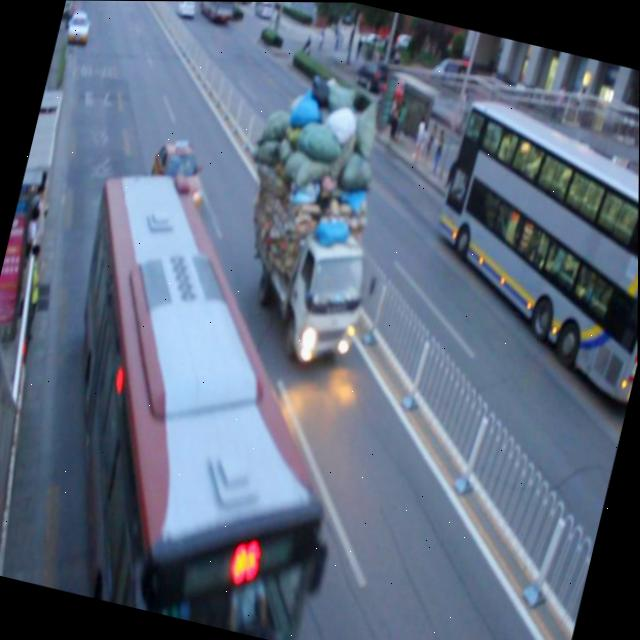bus: (228, 67, 407, 366)
car: (142, 132, 215, 219)
van: (12, 158, 395, 640), (408, 93, 639, 400)
